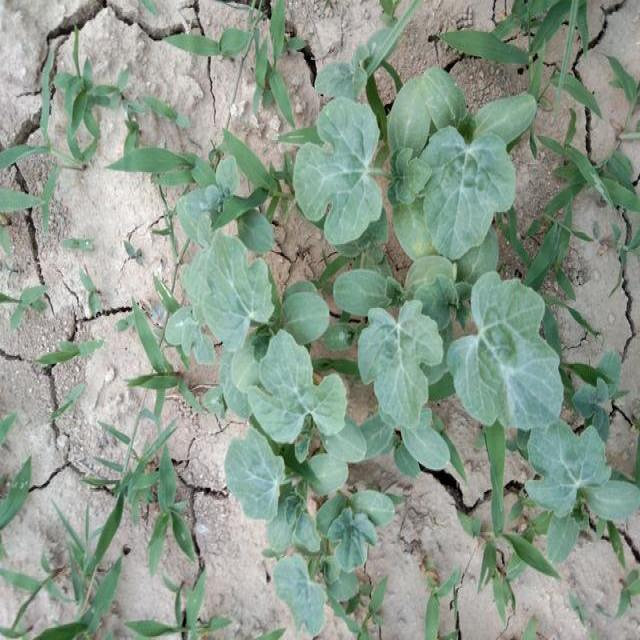weed: (216, 374, 384, 620), (184, 260, 338, 510), (300, 88, 536, 239), (360, 285, 571, 439), (512, 394, 638, 559), (442, 17, 578, 94), (37, 45, 109, 140), (133, 305, 183, 429)
